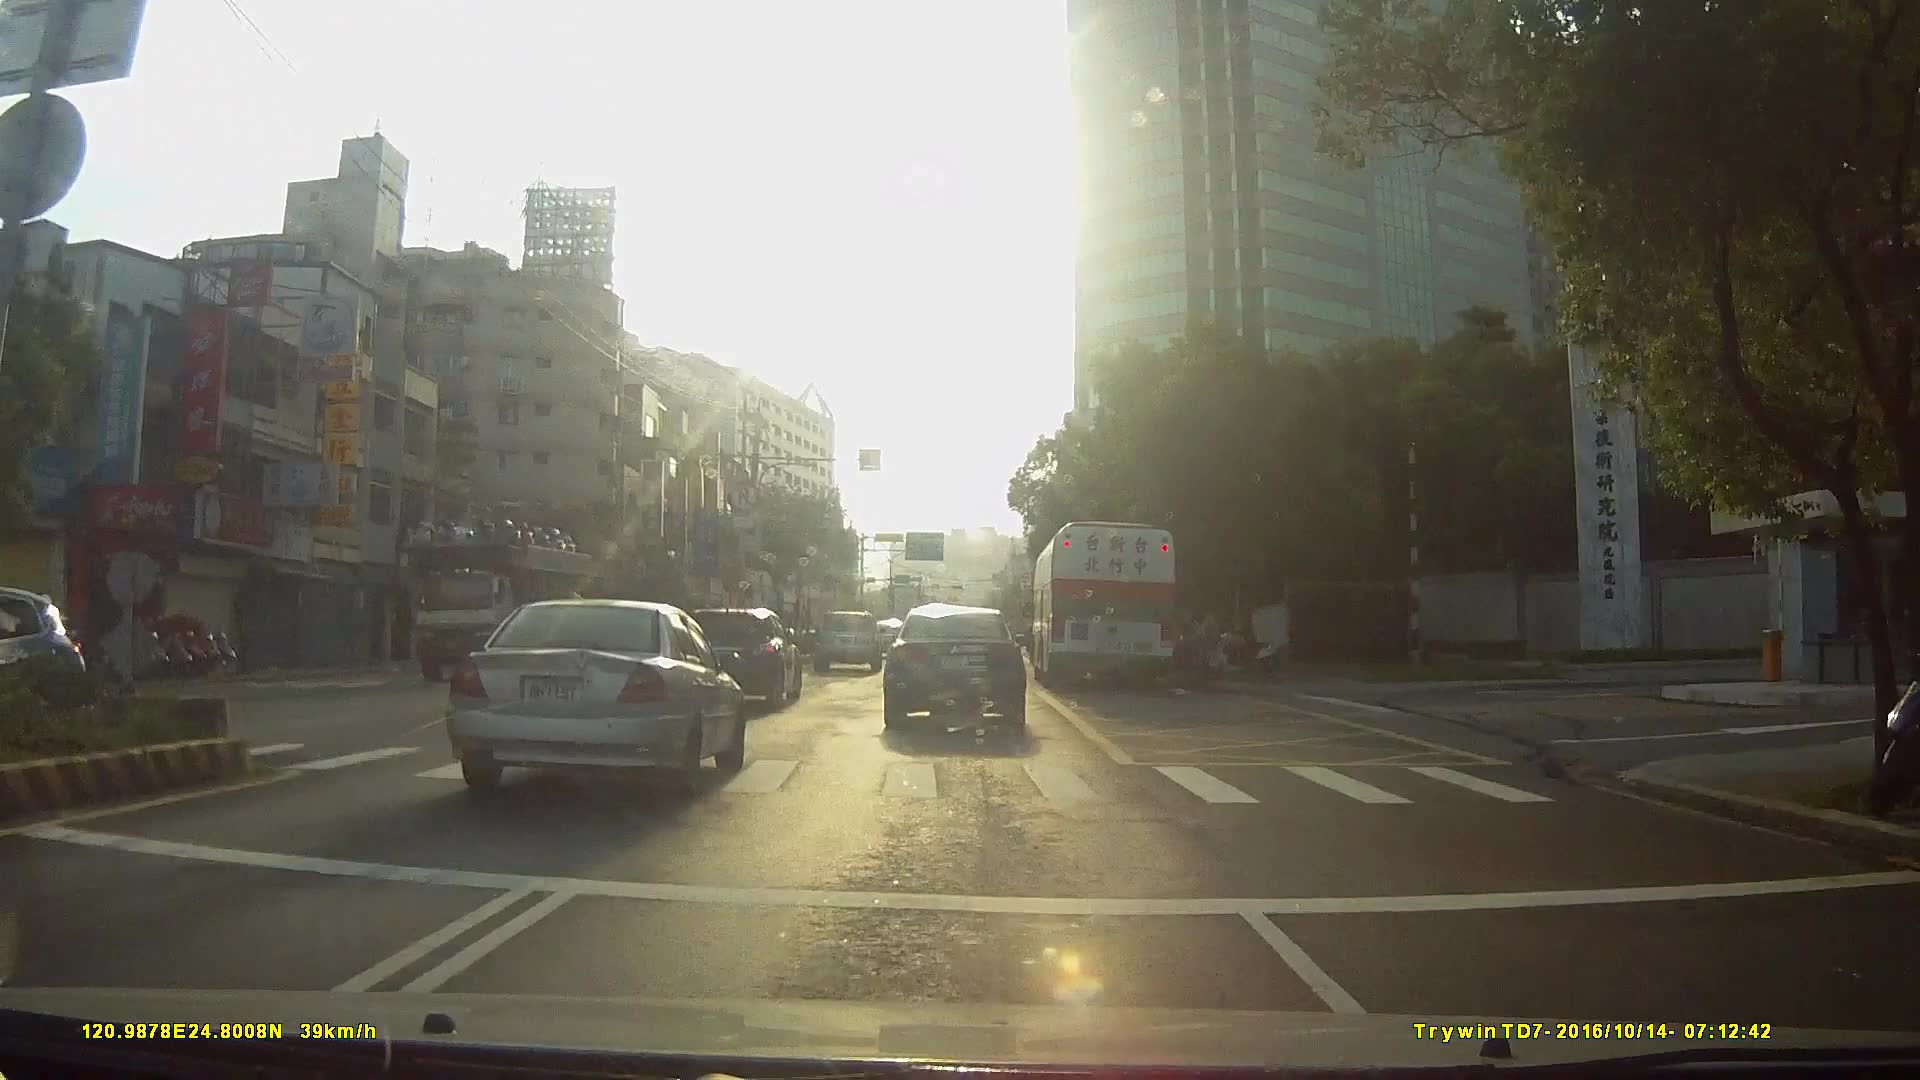vehicle: (435, 596, 744, 802), (407, 500, 615, 691), (1030, 516, 1178, 691), (880, 600, 1025, 732), (676, 607, 800, 709), (1, 589, 94, 713), (812, 608, 884, 673)
